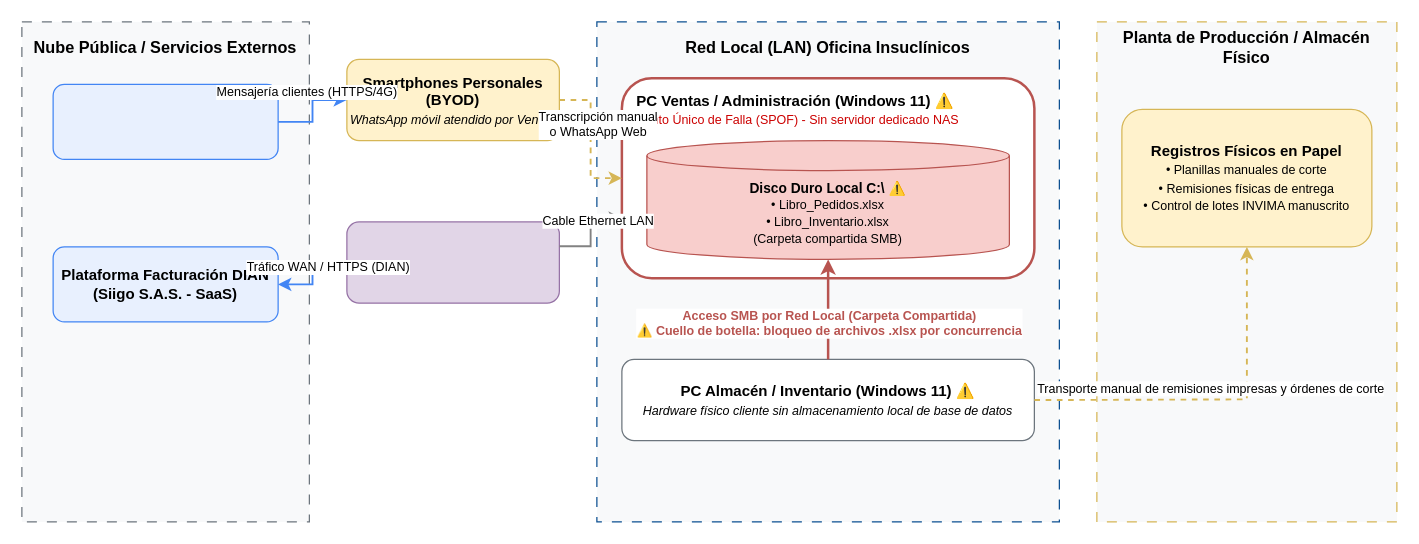
Some shapes in this 1419 by 544 pixel diagram are drawn without their labels. Each missing label, with the box of its shape:
Router / Módem ISP Oficina Conexión a Internet FTTH / Wi-Fi LAN: (346, 221, 559, 303)
Servidores Meta (WhatsApp Business / Cloud): (52, 83, 278, 159)
